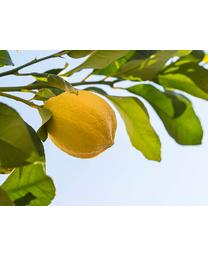lemon: (45, 90, 118, 158)
